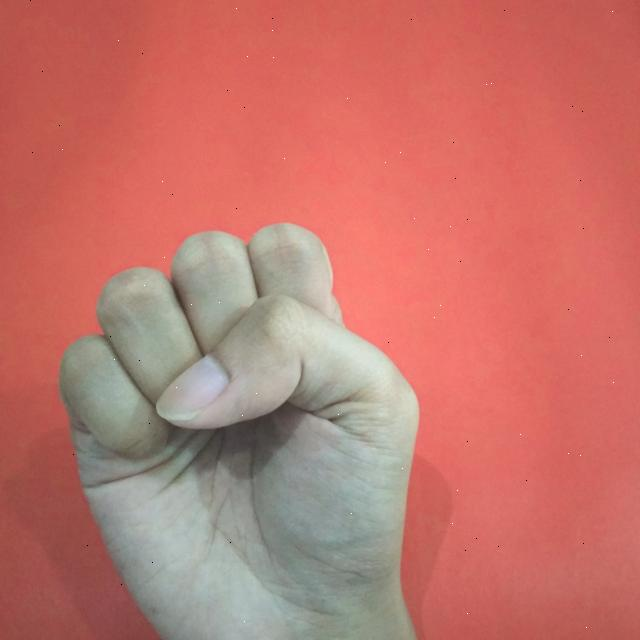S: (55, 219, 426, 640)
